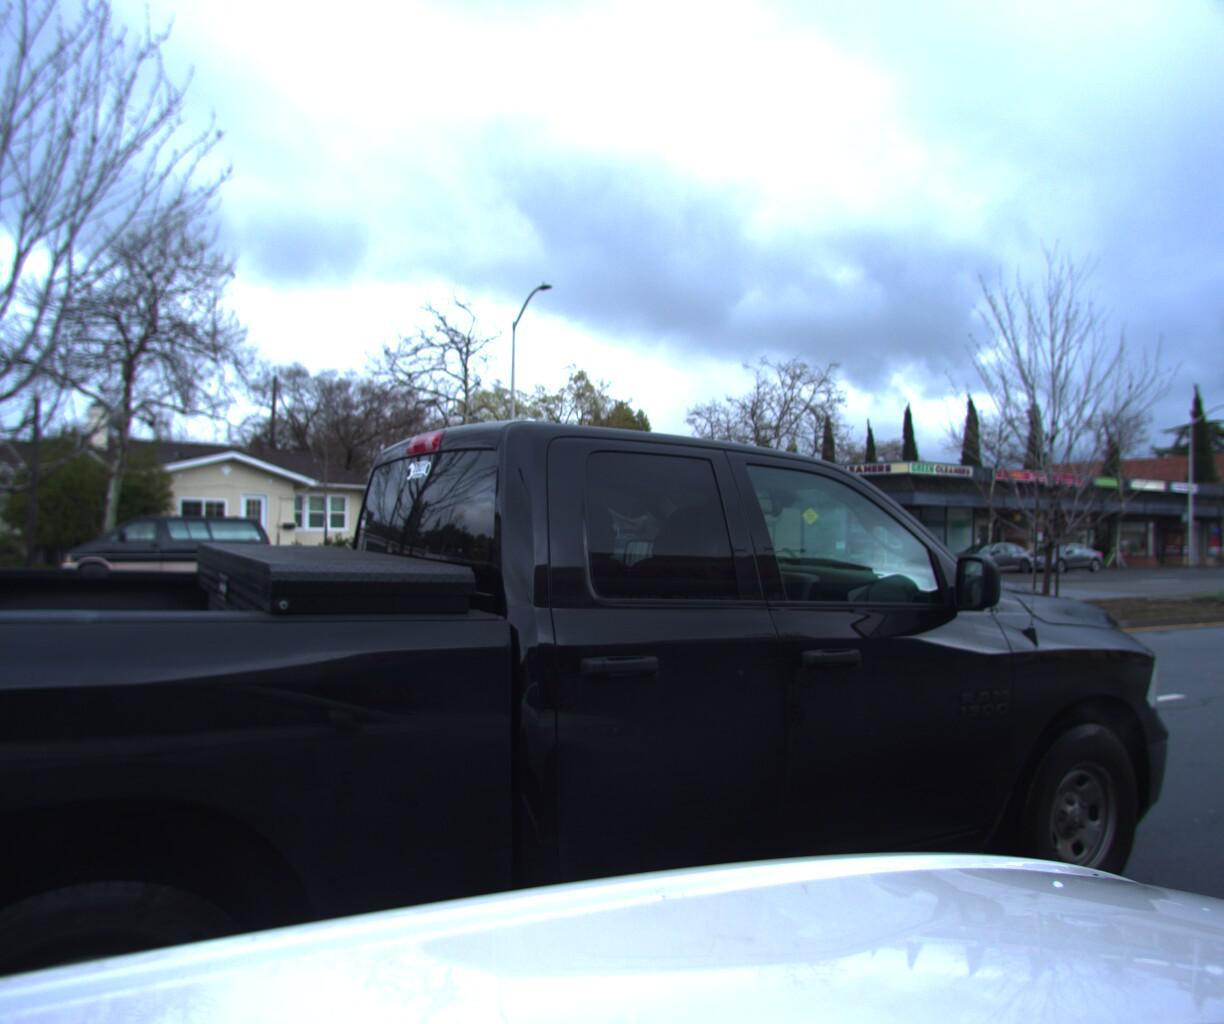car: (56, 518, 278, 604), (326, 531, 493, 590), (934, 532, 1032, 569), (1006, 531, 1105, 566), (1205, 528, 1224, 549)
